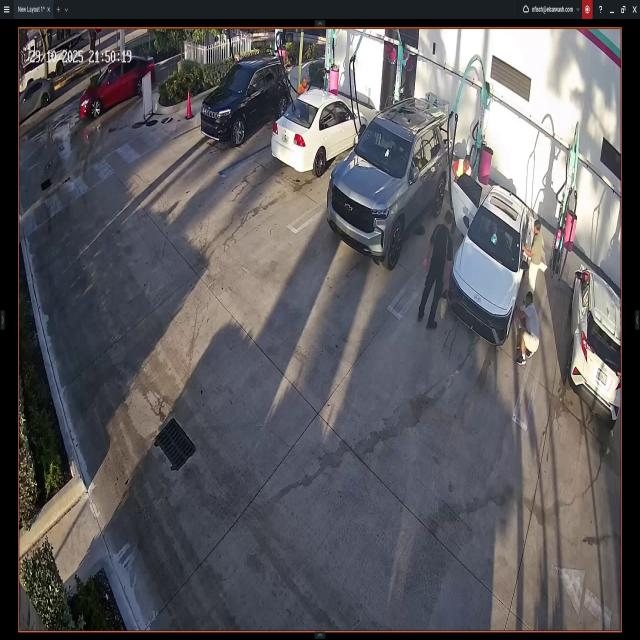Car: (327, 99, 452, 268), (451, 180, 534, 340), (200, 52, 291, 148), (272, 88, 368, 178), (572, 263, 620, 427), (79, 53, 156, 114), (19, 76, 55, 120)
